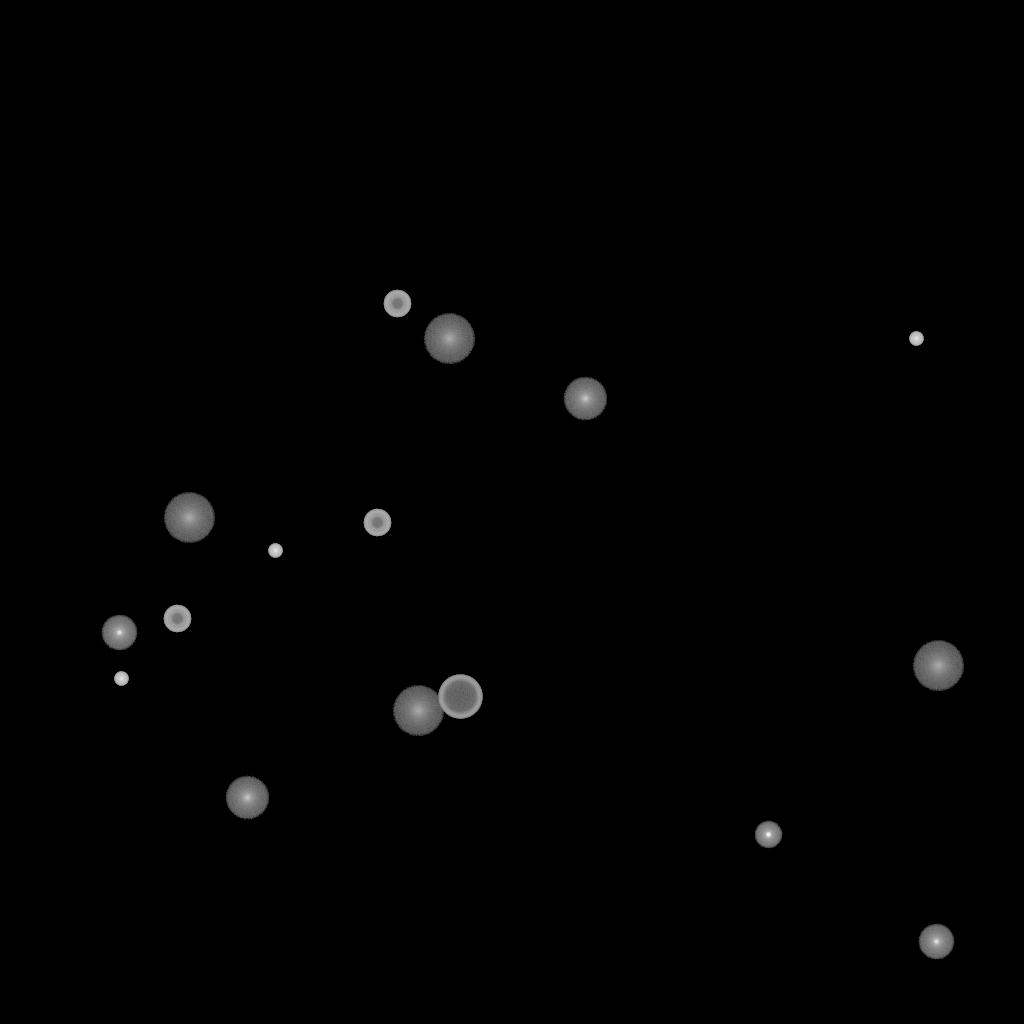depth:-10: (754, 821, 782, 849)
depth:-30: (268, 544, 282, 558), (114, 672, 128, 686), (909, 332, 923, 346)
depth:-50: (163, 605, 191, 633), (383, 290, 411, 318), (363, 509, 391, 537)
depth:-70: (438, 675, 482, 719)
depth:0: (101, 615, 137, 651), (918, 924, 954, 960)
depth:10: (563, 377, 607, 421), (225, 776, 269, 820)
depth:20: (423, 314, 475, 364), (163, 493, 215, 543), (392, 686, 444, 736), (912, 641, 964, 691)
